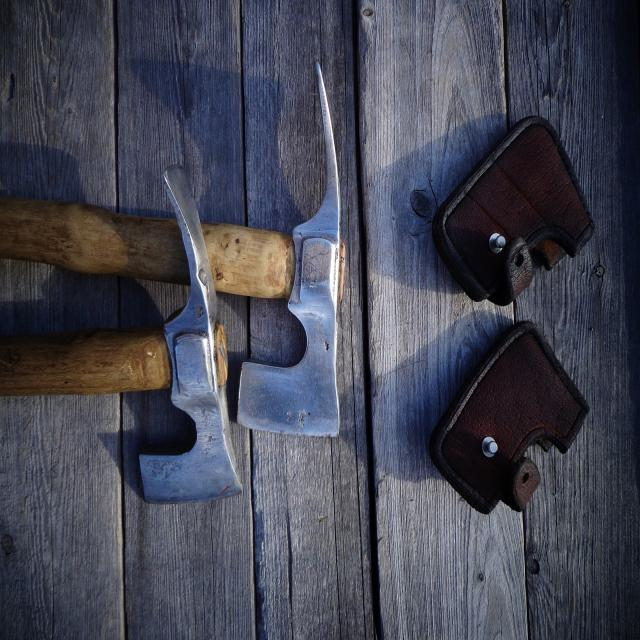Axe: (0, 166, 241, 502), (202, 66, 340, 436), (0, 198, 188, 281)
